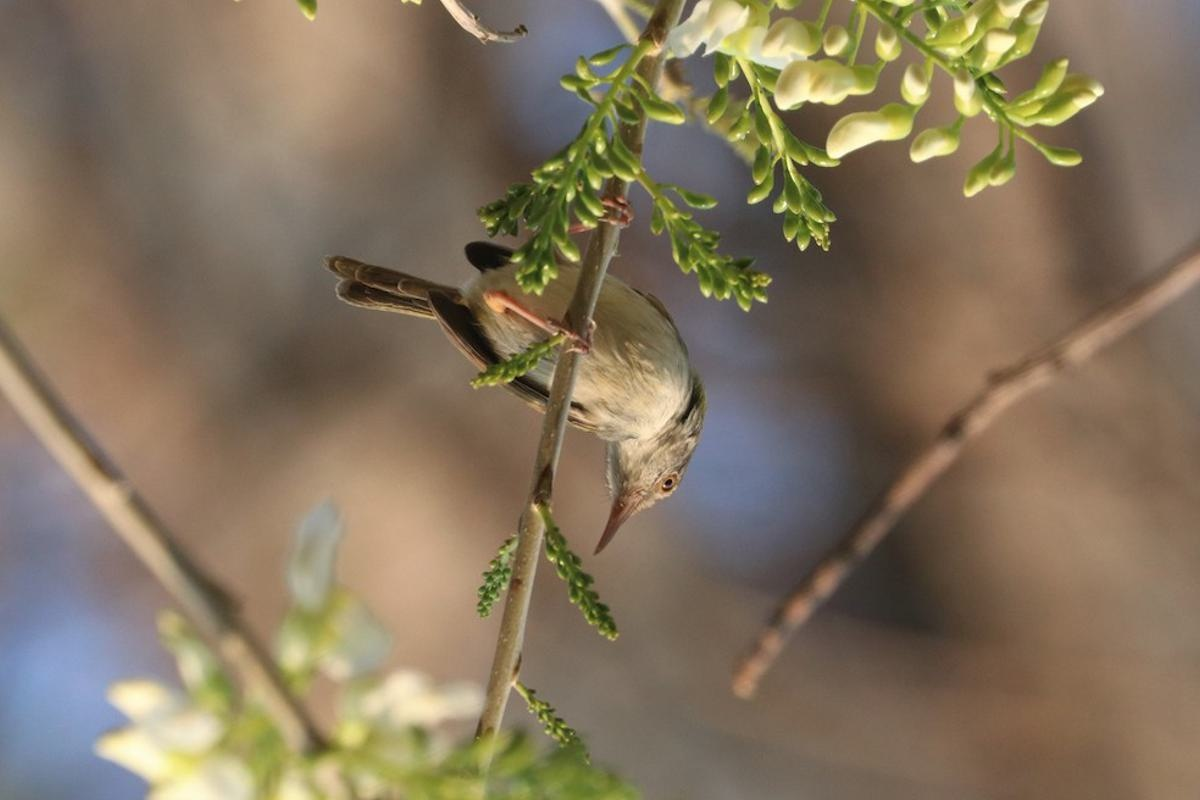tailorbird: (335, 231, 700, 554)
